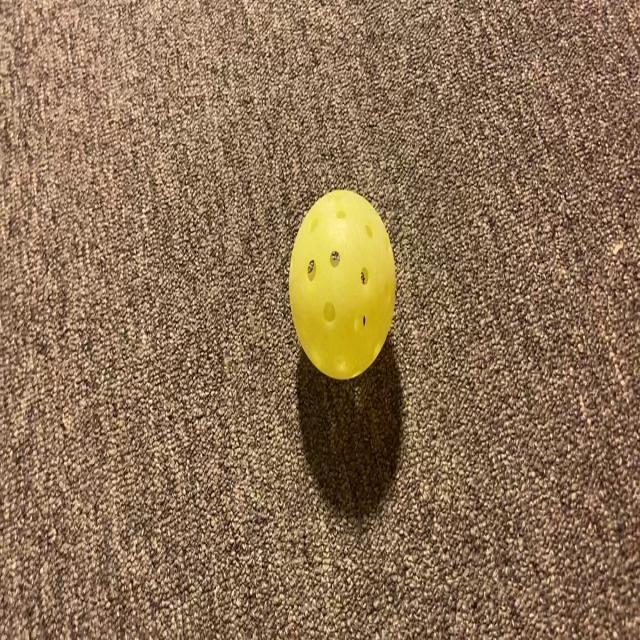ball: (270, 172, 410, 386)
